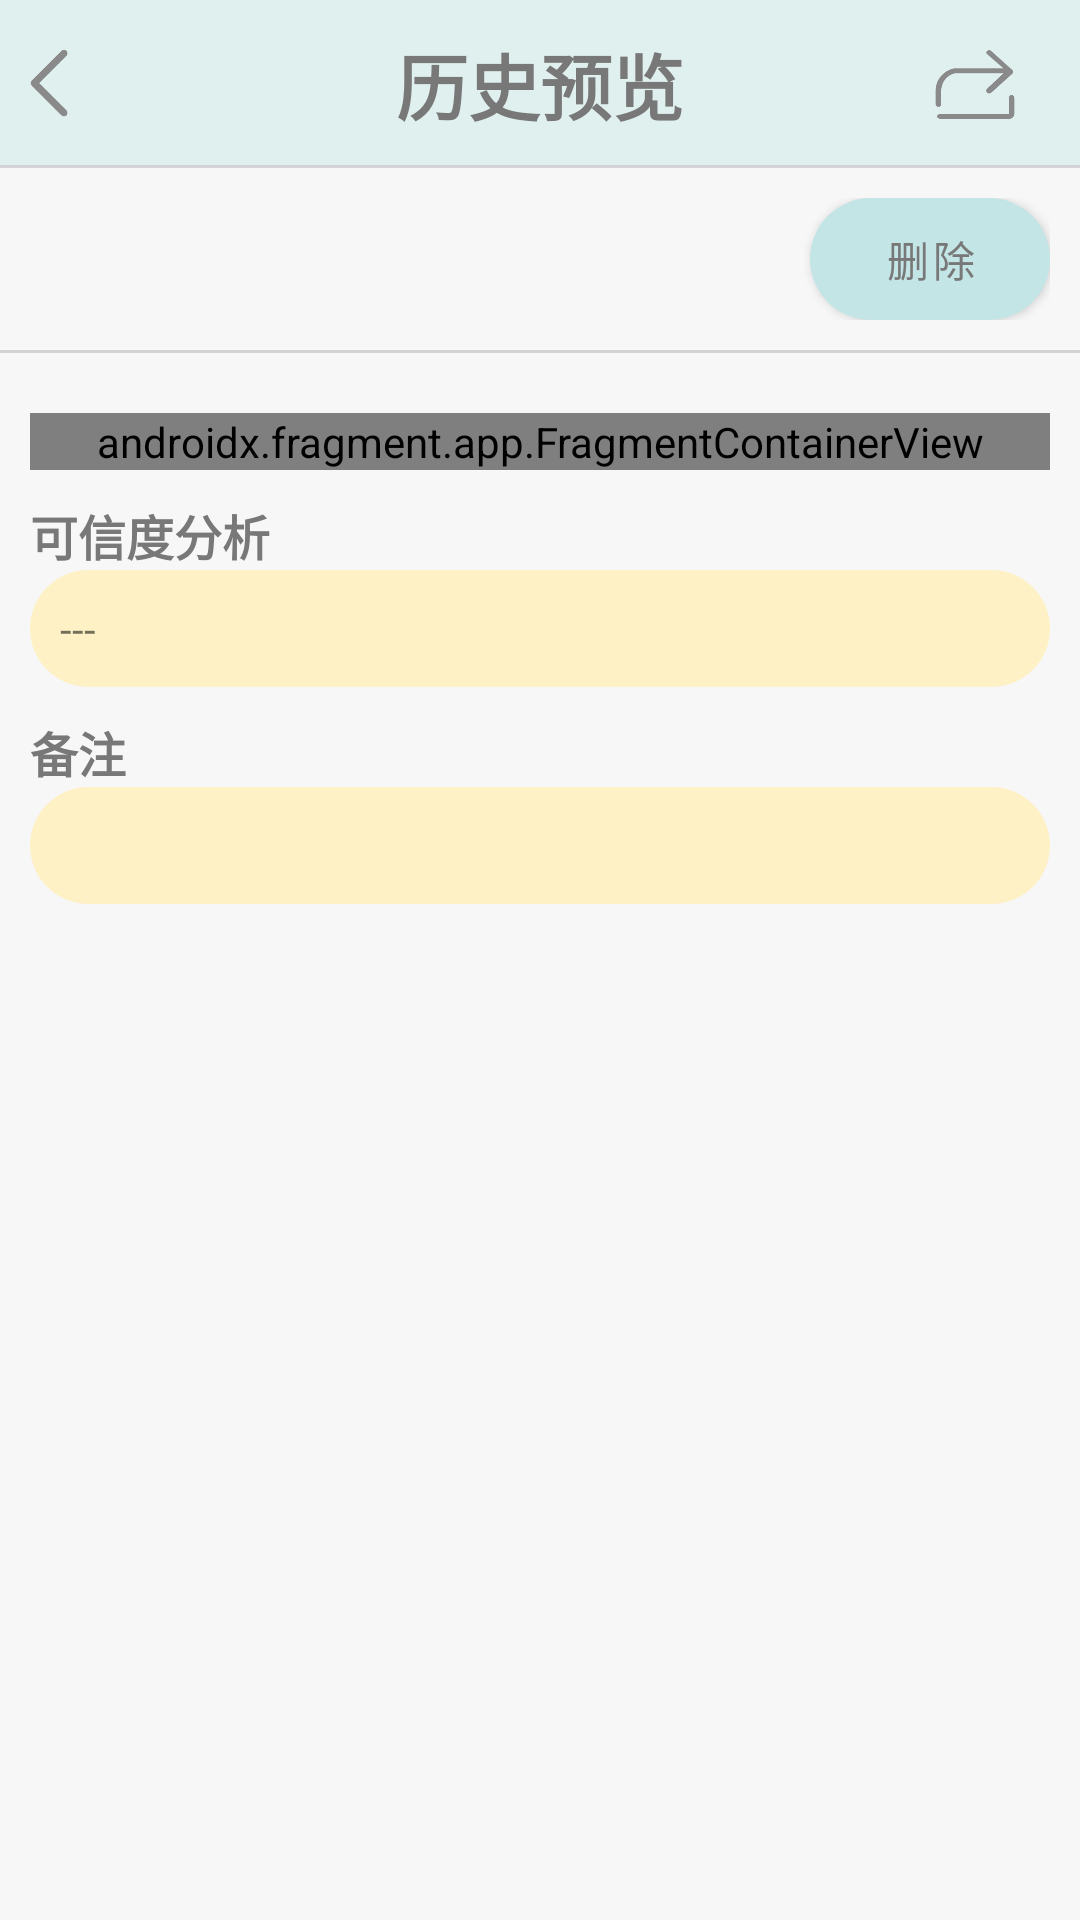

Icon click points for this 1080 × 1920 phone screenshot, format [x,y]:
back: [49,83]
export: [975,84]
